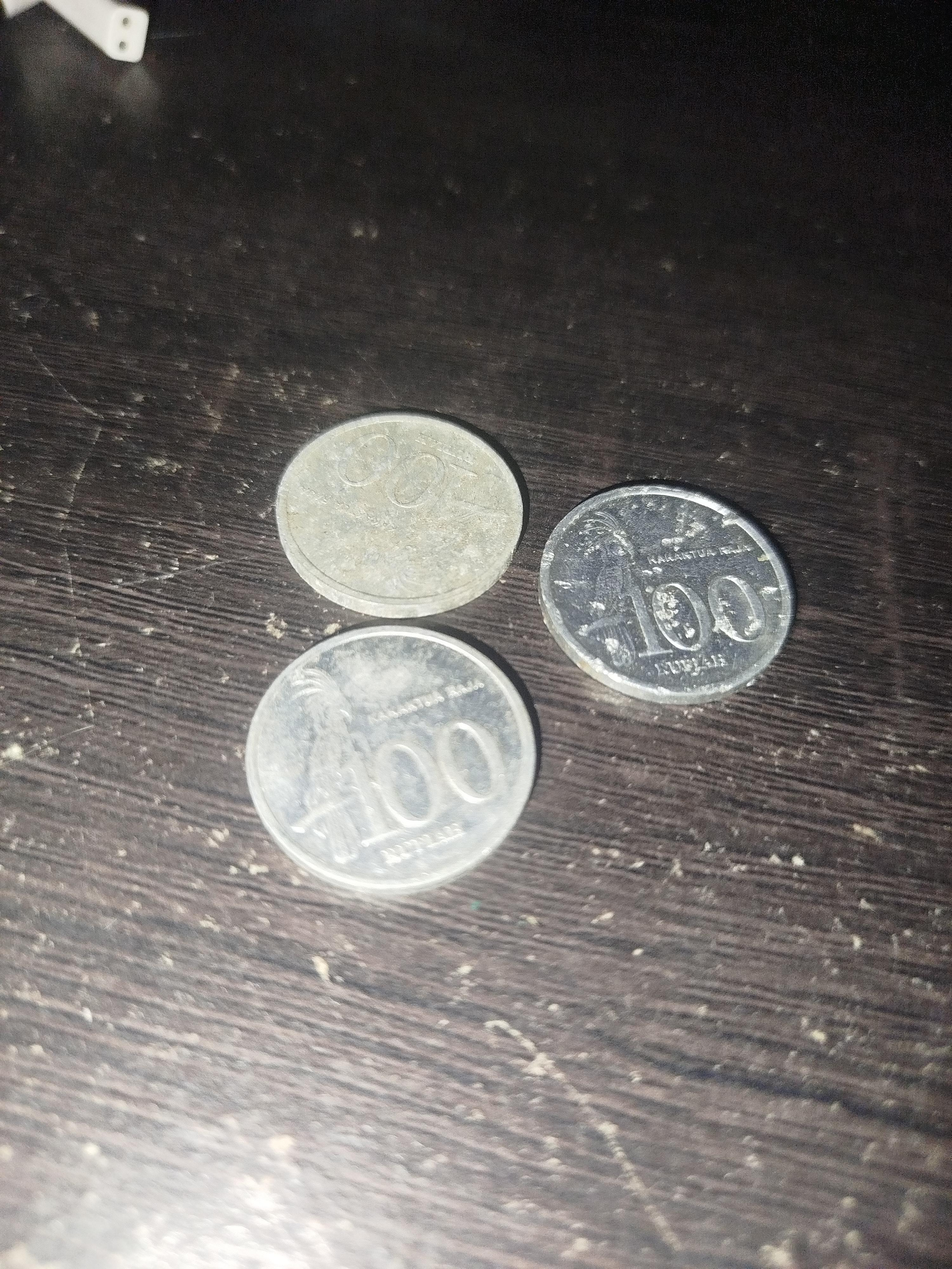coin_100_e1999: (228, 619, 549, 911), (540, 474, 794, 715), (275, 403, 528, 625)
